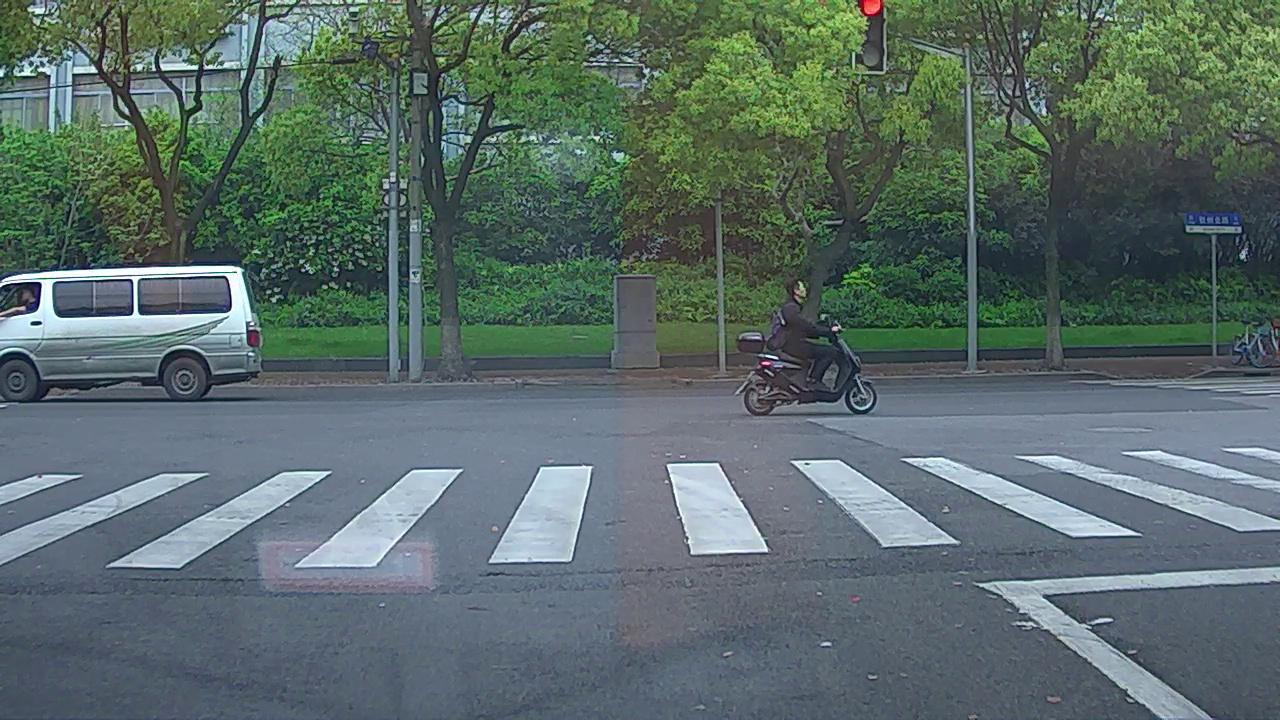traffic_light: (857, 1, 886, 74)
